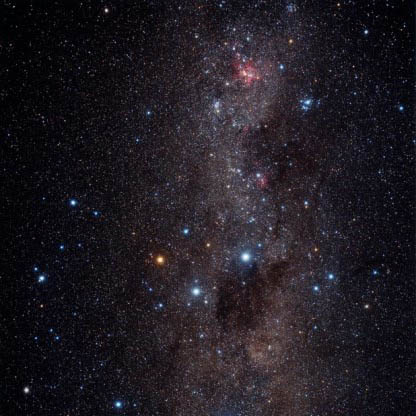Southern Cross: (235, 244, 256, 271), (184, 279, 207, 301), (150, 252, 167, 272), (177, 219, 191, 239)
